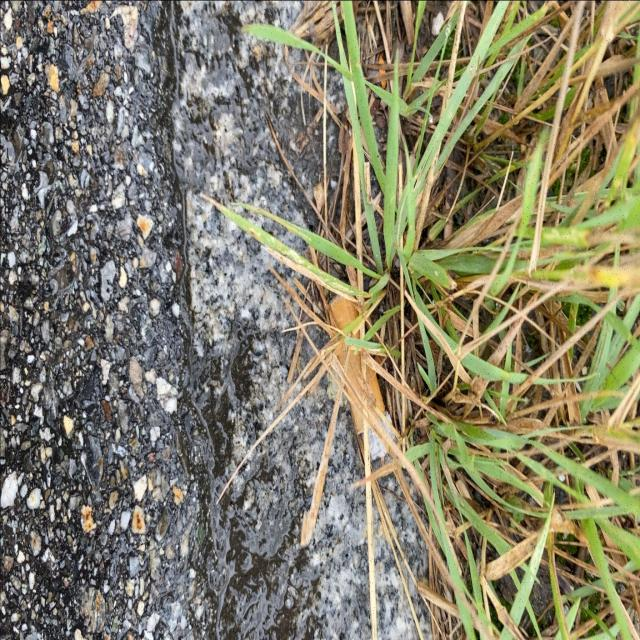other waste: (327, 290, 397, 462)
